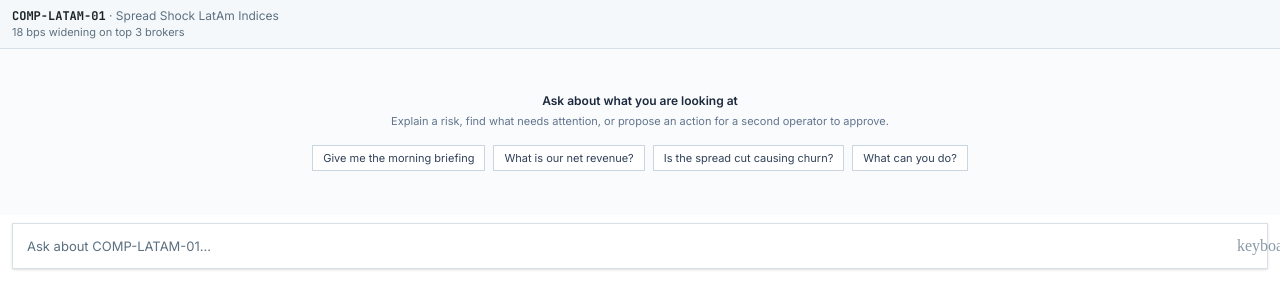
Test: the copilot chat never fabricates an answer › shows an explicit error for HTTP 401 and no audit badge
The image size is (1280, 298).
In the text box named "Ask the copilot": (621, 246) [13, 224, 1229, 268], type "What is the LatAm spread impact?"
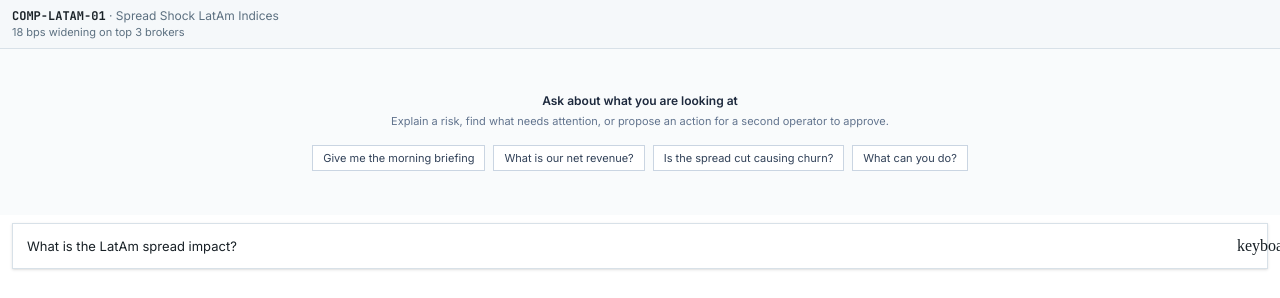
Submit the form named "Ask the copilot", box [0, 215, 1279, 281]
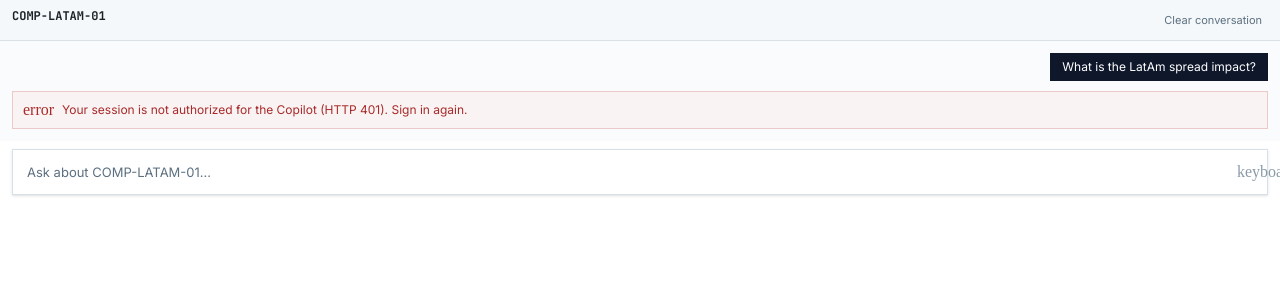
Now the message shows "not authorized", box [62, 102, 468, 117]
Now the text "Spread Shock LatAm" is gone
